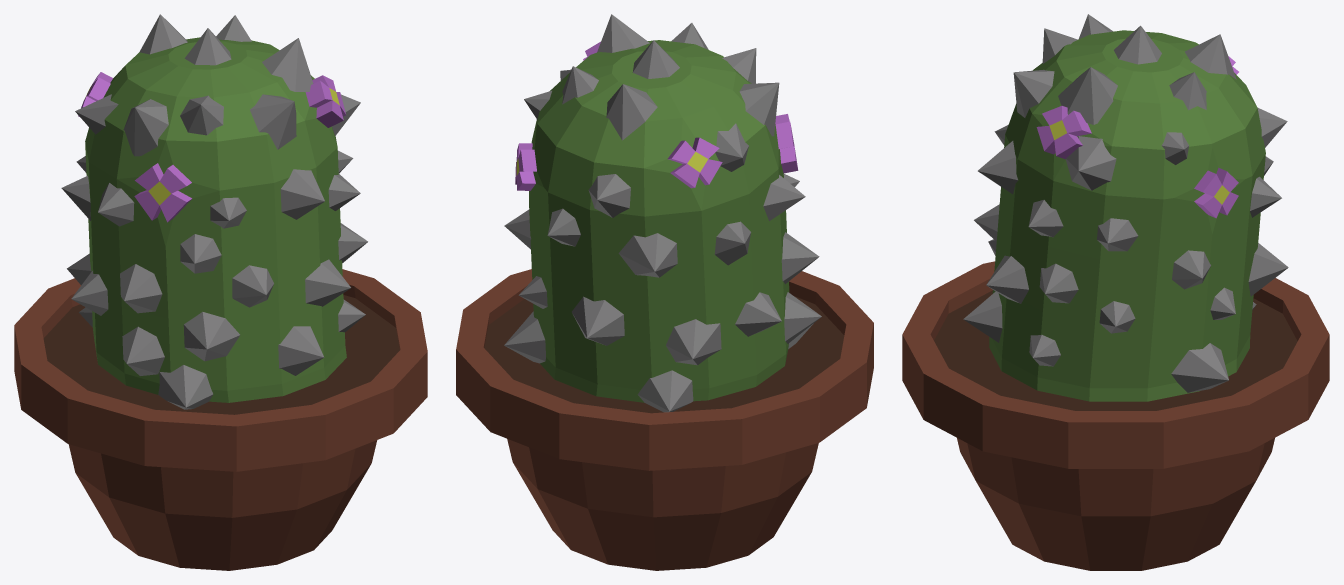
The model's file is Cactus.fbx.
The picture shows the model from 3 angles, left to right: view 1: azimuth 30°, elevation 25°; view 2: azimuth 150°, elevation 25°; view 3: azimuth 270°, elevation 25°; orthographic projection. The views are drawn at different scales.
Parts seen in each view (by area): view 1: Circle; view 2: Circle; view 3: Circle.
Part boxes in pixels (x1,y1,x2,y2): Circle: (14,14,427,570); Circle: (456,14,873,570); Circle: (902,14,1329,570).
Size of the model in its own units: 0.1918 by 0.2528 by 0.1967.
